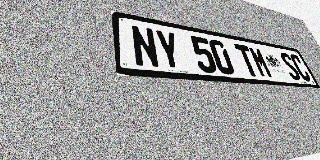0: (207, 39, 236, 75)
5: (190, 35, 219, 74)
C: (288, 54, 312, 82)
M: (248, 46, 274, 78)
N: (130, 24, 161, 69)
S: (278, 52, 303, 81)
T: (234, 44, 261, 77)
Y: (154, 29, 184, 71)
